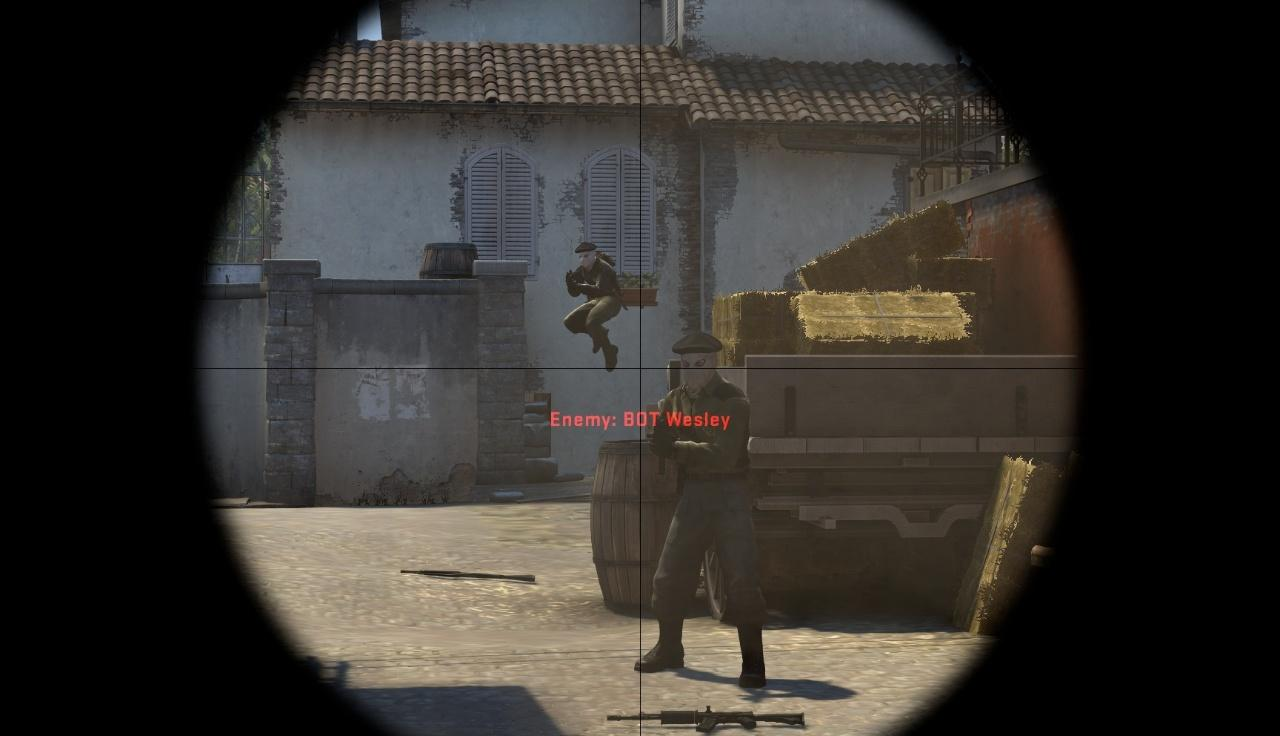tt: (633, 332, 776, 692), (566, 243, 621, 372)
tthead: (675, 334, 720, 392), (577, 244, 595, 268)
